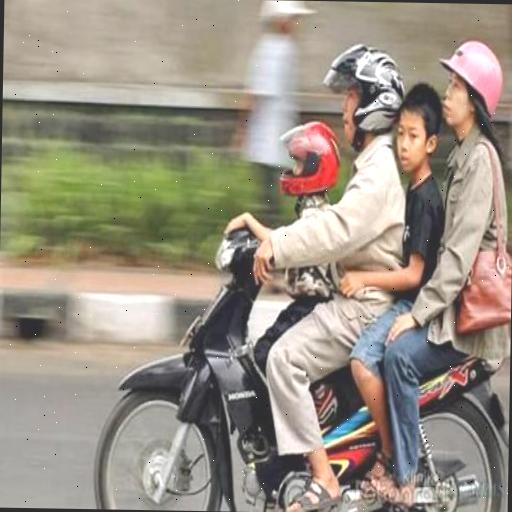no helmet: (319, 38, 405, 186)
triple riding: (91, 43, 512, 512)
